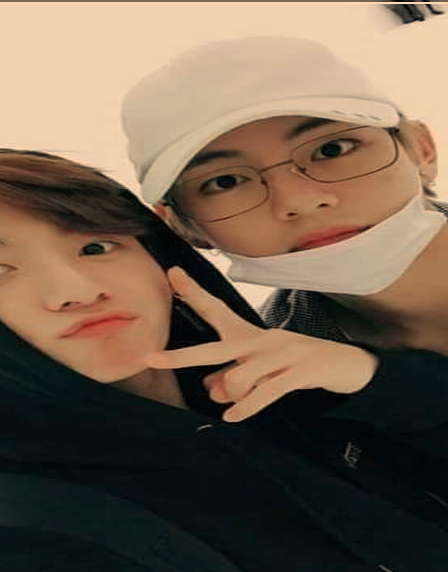mask_weared_incorrect: (126, 33, 434, 299)
